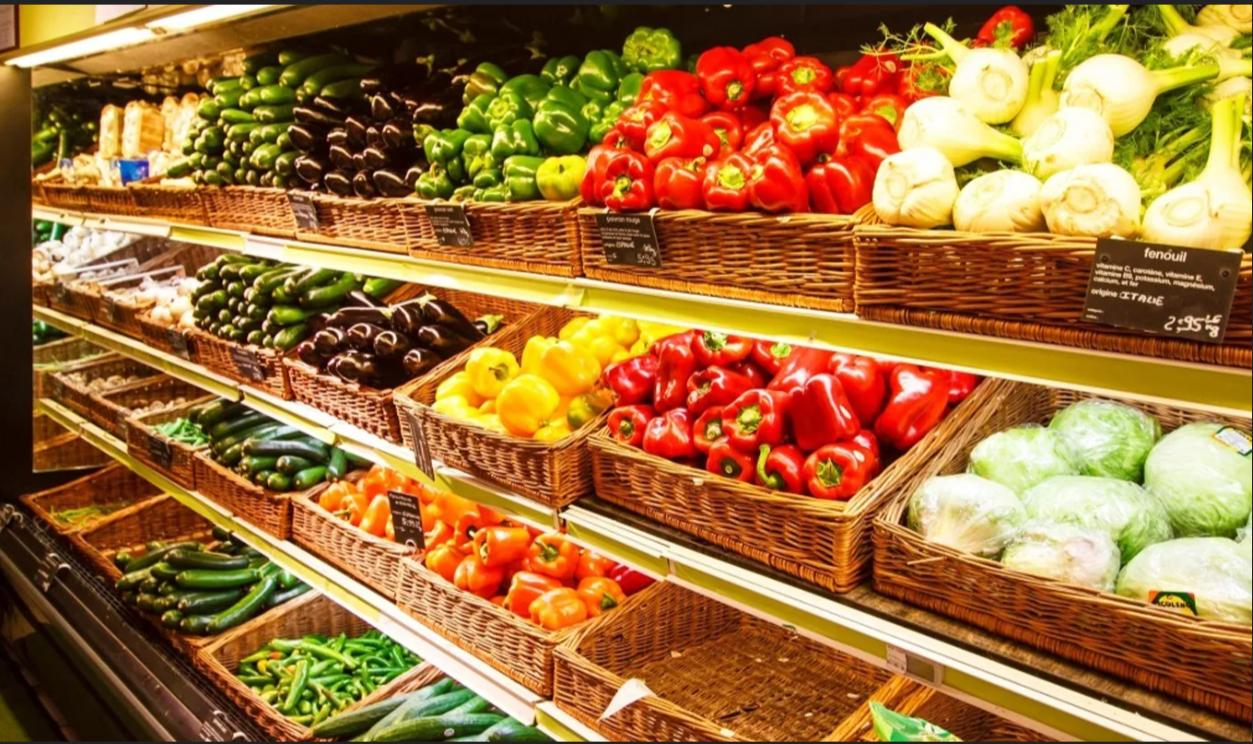cucumber: (131, 528, 309, 640), (188, 53, 318, 196), (196, 249, 384, 344), (333, 674, 561, 742), (200, 426, 367, 492)
eggplant: (288, 64, 462, 198), (306, 286, 499, 395)
sweet pepper: (603, 336, 972, 500), (586, 43, 934, 214), (425, 34, 670, 220), (438, 316, 674, 450), (417, 504, 659, 634), (320, 461, 490, 553)
